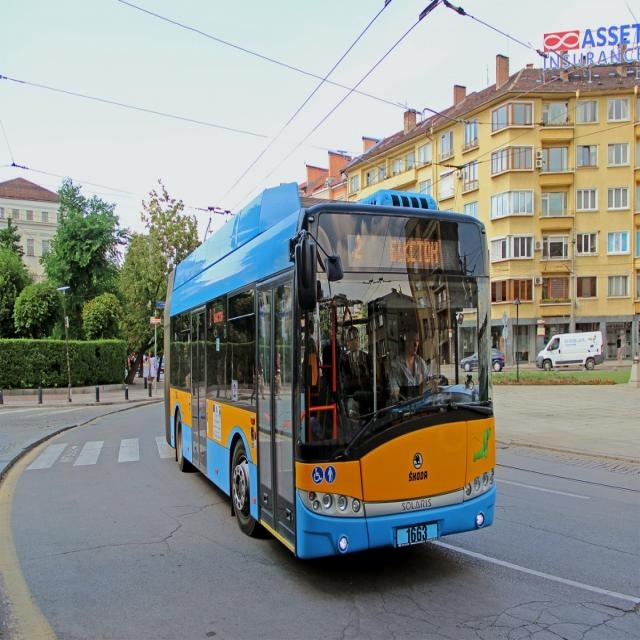Bus: (162, 180, 498, 563)
